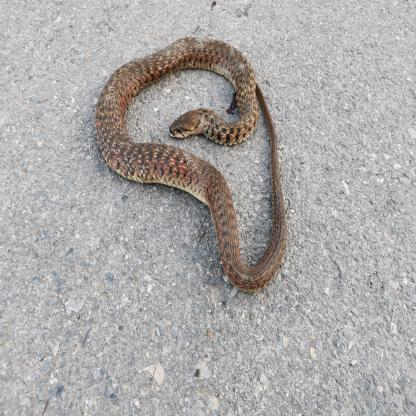Snake: (93, 33, 286, 294)
